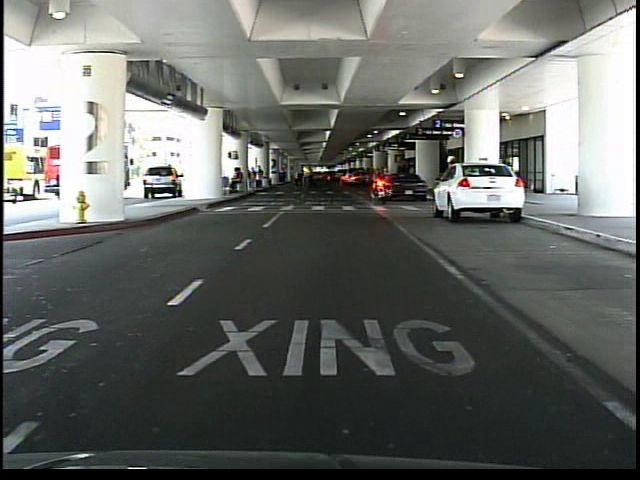person: (442, 151, 460, 215)
